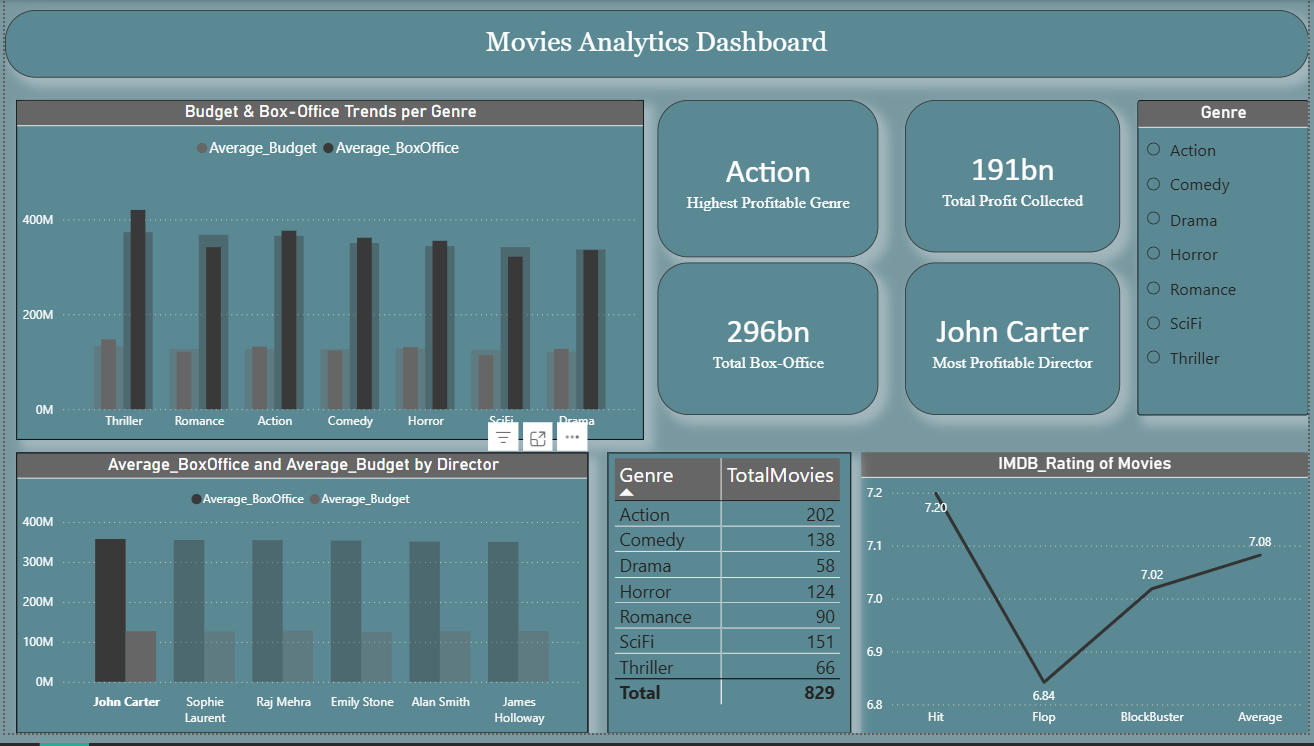

The page's visual inventory and layout, read from the dashboard file:
{"tool":"powerbi","page":{"name":"Page 1","canvas":[1280,720],"ordinal":0},"visuals":[{"type":"textbox","box":[0,10,1279.8,66.3],"z":0},{"type":"clusteredColumnChart","title":"Budget & Box-Office Trends per Genre","fields":{"Category":["movies_dataset.Genre"],"Y":["movies_dataset.Average_Budget","movies_dataset.Average_BoxOffice"]},"box":[11,98.2,616,333.7],"z":1},{"type":"lineChart","title":"IMDB_Rating of Movies","fields":{"Category":["movies_dataset.Profit_Status"],"Y":["movies_dataset.Average_IMDB_Rating"]},"box":[840.5,444.2,439.3,276.1],"z":2},{"type":"card","fields":{"Values":["movies_dataset.Total_Profit"]},"box":[883.4,98.2,211,149.7],"z":3},{"type":"listSlicer","fields":{"Values":["movies_dataset.Genre"]},"box":[1111.7,98.2,168.1,309.2],"z":4},{"type":"card","fields":{"Values":["movies_dataset.Profitable_Director"]},"box":[883.4,257.7,211,149.7],"z":5},{"type":"clusteredColumnChart","fields":{"Category":["movies_dataset.Director"],"Y":["movies_dataset.Average_BoxOffice","movies_dataset.Average_Budget"]},"box":[11,444.2,562,276.1],"z":6},{"type":"tableEx","fields":{"Values":["movies_dataset.Genre","movies_dataset.TotalMovies"]},"box":[591.4,444.2,239.3,276.1],"z":7},{"type":"card","fields":{"Values":["movies_dataset.Top_Genre"]},"box":[640.5,98.2,217.2,154.6],"z":8},{"type":"card","fields":{"Values":["Sum(movies_dataset.Box_Office)"]},"box":[640.5,257.7,217.2,149.7],"z":9}]}

Visuals, with their boxes in screenshot pixels (x1, y1, x2, y2), scaled from the page's 1280x720 canvas onto the 1314x746 screenshot:
textbox: bbox(0, 10, 1313, 79)
"Budget & Box-Office Trends per Genre" clusteredColumnChart: bbox(11, 102, 644, 447)
"IMDB_Rating of Movies" lineChart: bbox(863, 460, 1313, 745)
card - movies_dataset.Total_Profit: bbox(907, 102, 1123, 257)
listSlicer - movies_dataset.Genre: bbox(1141, 102, 1313, 422)
card - movies_dataset.Profitable_Director: bbox(907, 267, 1123, 422)
clusteredColumnChart - movies_dataset.Director x movies_dataset.Average_BoxOffice: bbox(11, 460, 588, 745)
tableEx - movies_dataset.Genre x movies_dataset.TotalMovies: bbox(607, 460, 853, 745)
card - movies_dataset.Top_Genre: bbox(658, 102, 880, 262)
card - Sum(movies_dataset.Box_Office): bbox(658, 267, 880, 422)
